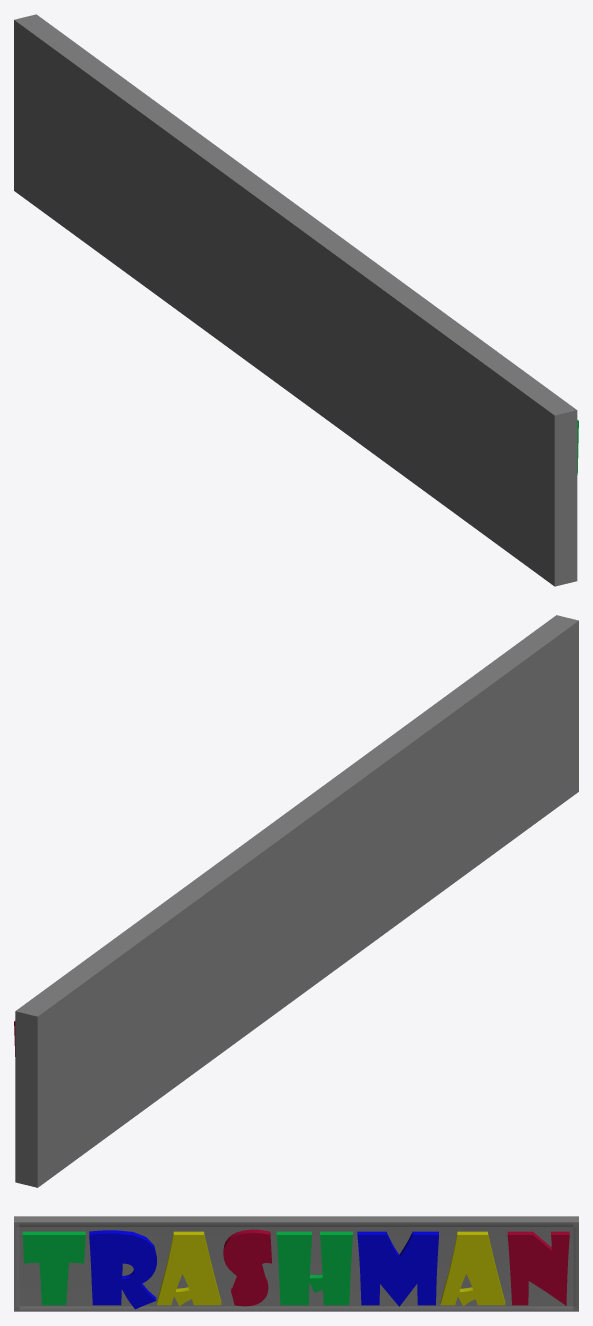
The picture shows the model from 3 angles, top to bottom: view 1: azimuth 30°, elevation 25°; view 2: azimuth 150°, elevation 25°; view 3: azimuth 270°, elevation 25°; orthographic projection. The views are drawn at different scales.
Visible parts, largest first — view 1: pCube1; view 2: pCube1; view 3: typeMesh1, pCube1.
Part boxes in pixels (box(x1,y1,x2,y2)): pCube1: box(14, 14, 577, 586); pCube1: box(15, 615, 578, 1187); typeMesh1: box(22, 1229, 569, 1309); pCube1: box(14, 1216, 578, 1311).
Size of the model in its own units: 0.9744 by 4.88 by 27.97.
